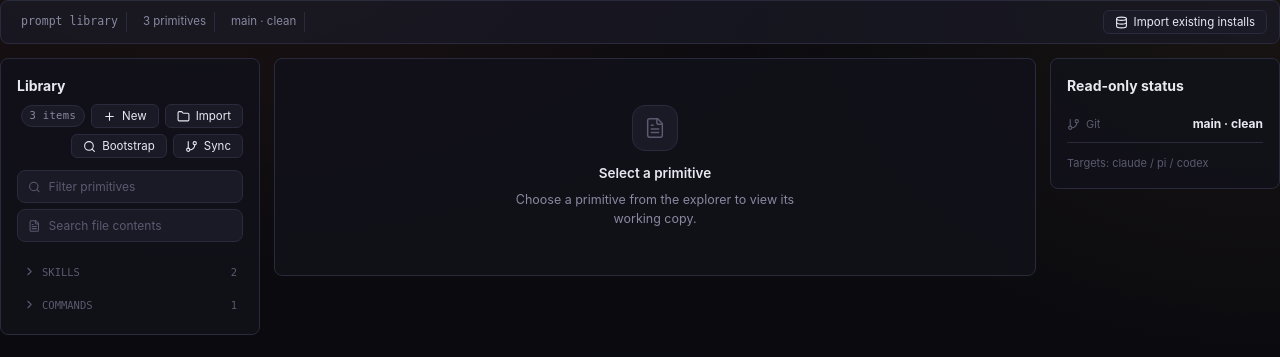
Test: Library route — explorer, collapse, selection, detail › an active filter force-expands groups so matches aren't hidden behind collapse
Expected: the text "browser-check" is not shown
Type "browser" into the field with placeholder "Filter primitives" at (140, 186), box [49,179,232,194]
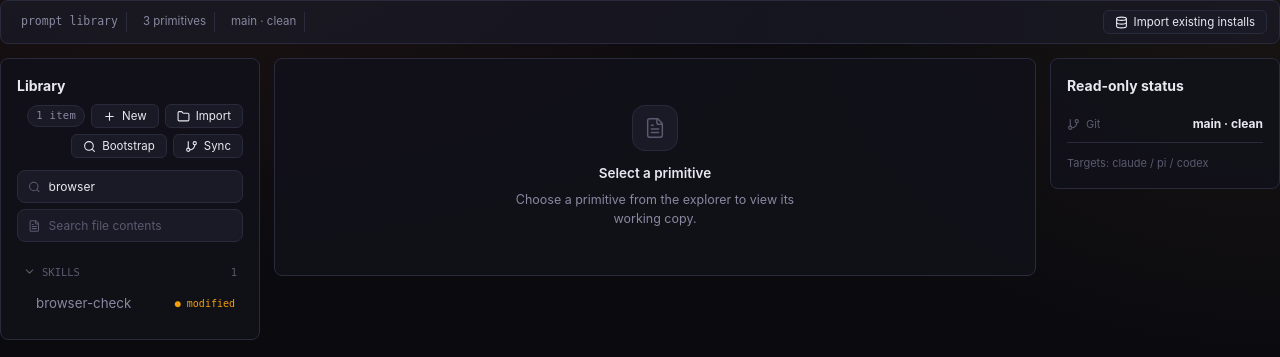
Expected: the text "browser-check" is shown, [36,295,131,311]
